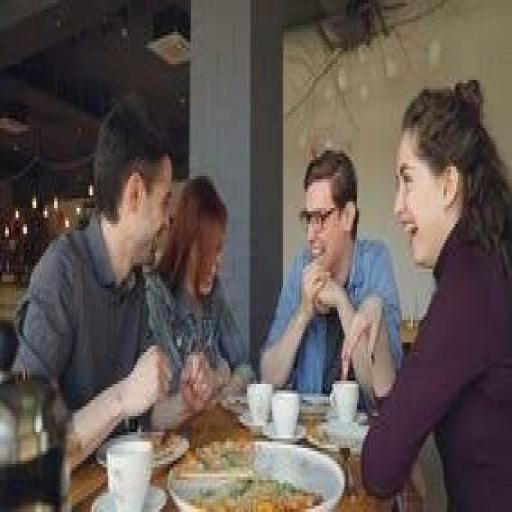eating: (11, 70, 508, 502)
